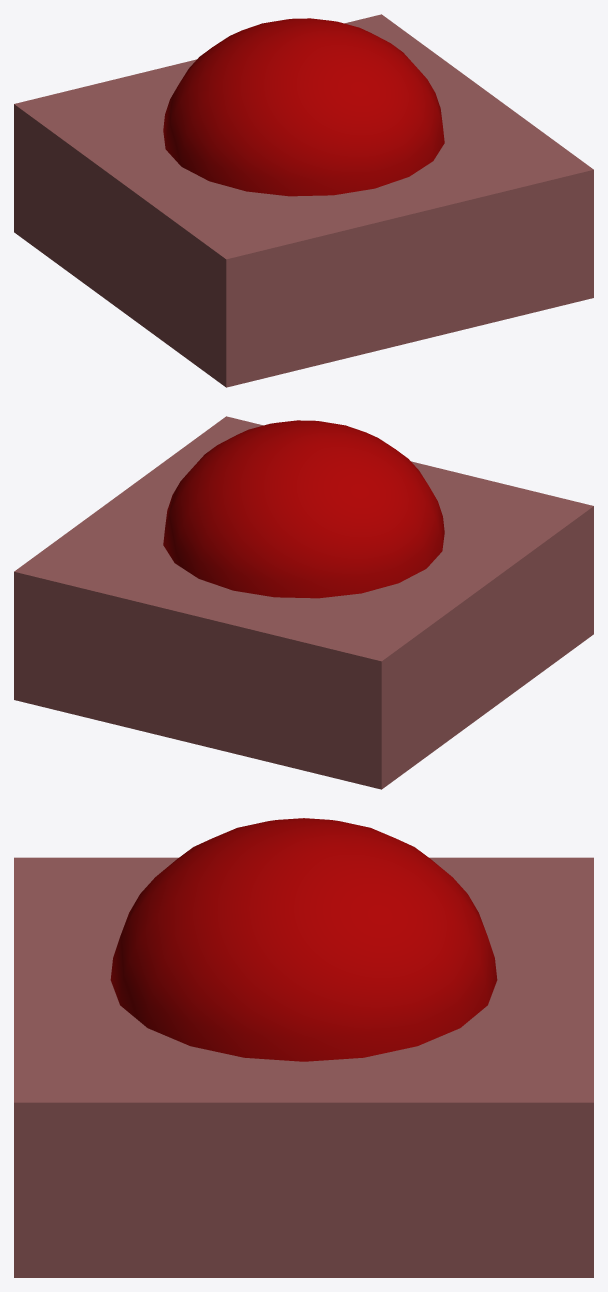
File: Button.fbx
3 views of the same model, one above another, from view 1: azimuth 30°, elevation 25°; view 2: azimuth 150°, elevation 25°; view 3: azimuth 270°, elevation 25° (orthographic). The views are drawn at different scales.
Parts seen in each view (by area): view 1: pCube1, pSphere1; view 2: pCube1, pSphere1; view 3: pCube1, pSphere1.
Part boxes in pixels (x1,y1,x2,y2): pCube1: (14, 14, 593, 387); pSphere1: (163, 18, 444, 196); pCube1: (14, 416, 593, 789); pSphere1: (163, 420, 444, 598); pCube1: (14, 857, 593, 1277); pSphere1: (110, 818, 497, 1061).
Size of the model in its own units: 3 by 1.8 by 3.
